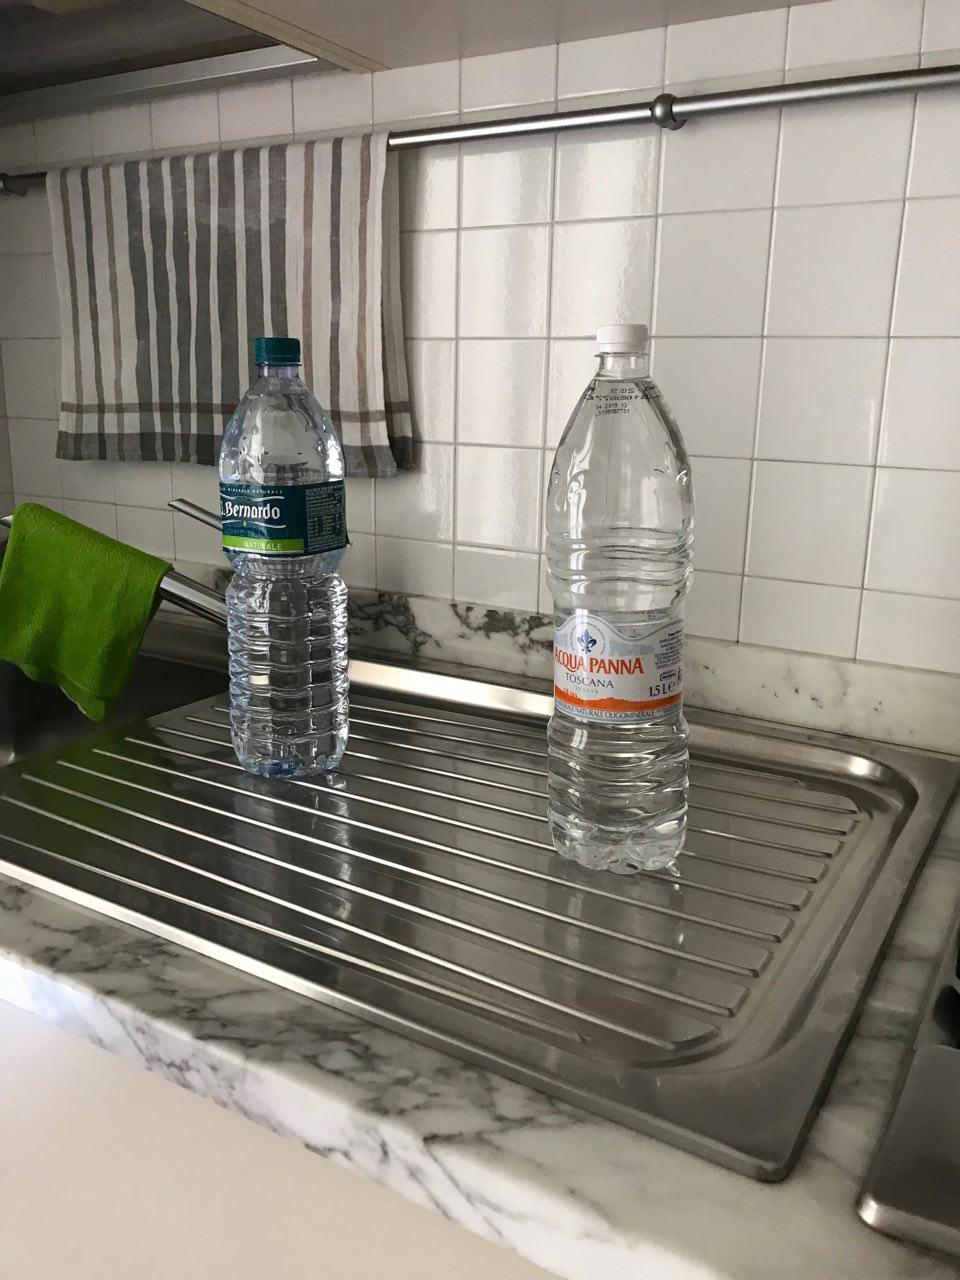san_bernardo: (217, 335, 350, 777)
